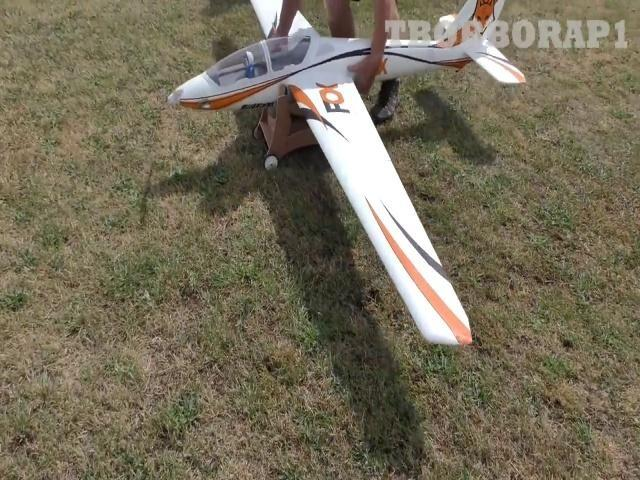Airplane: (167, 1, 525, 345)
